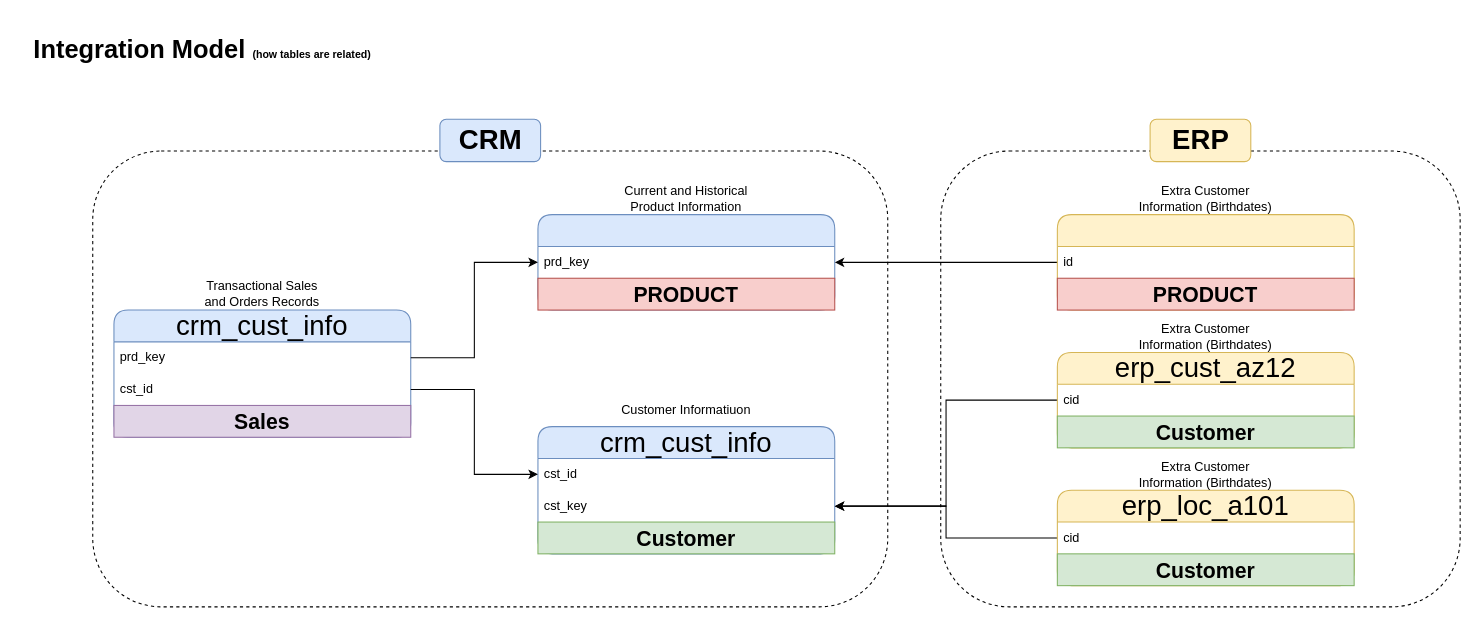
This 1479x625 diagram has some shape labels left out. Each missing label, with the box of its shape:
crm_prd_info: (537, 214, 835, 310)
erp_px_cat_g1v2: (1056, 214, 1354, 310)
